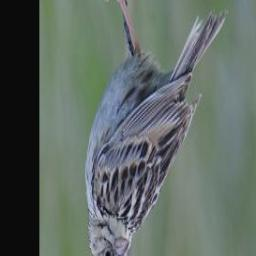Sparrow: (85, 0, 229, 256)
